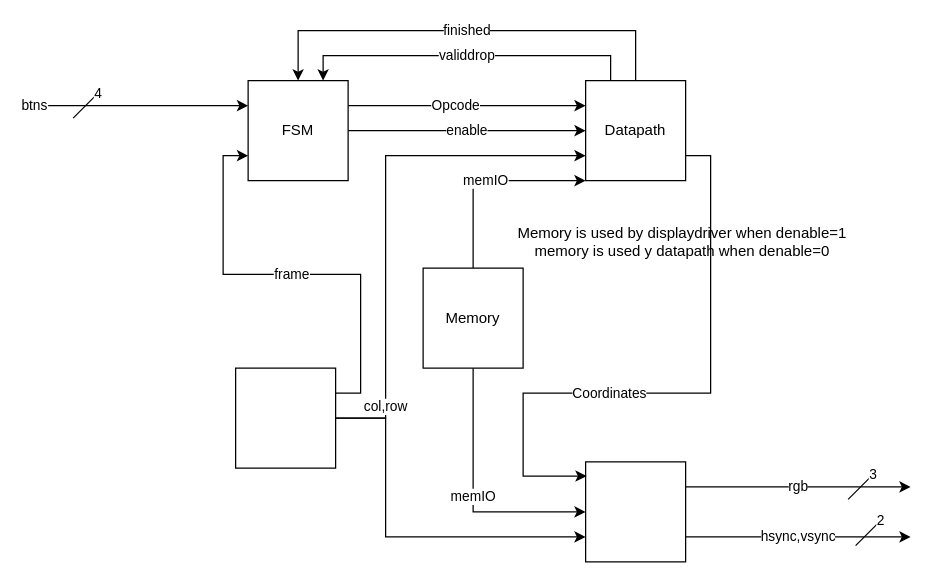
The diagram is 943 pixels wide and 584 high, and some of its shapes have lost their labels. The shapes that lost their labels are listed below. From the top down, each one's box as (x1, y1, x2, y2) in pixels, then its label:
(234, 367, 336, 468): VGA Timing
(584, 461, 686, 562): Display Driver
